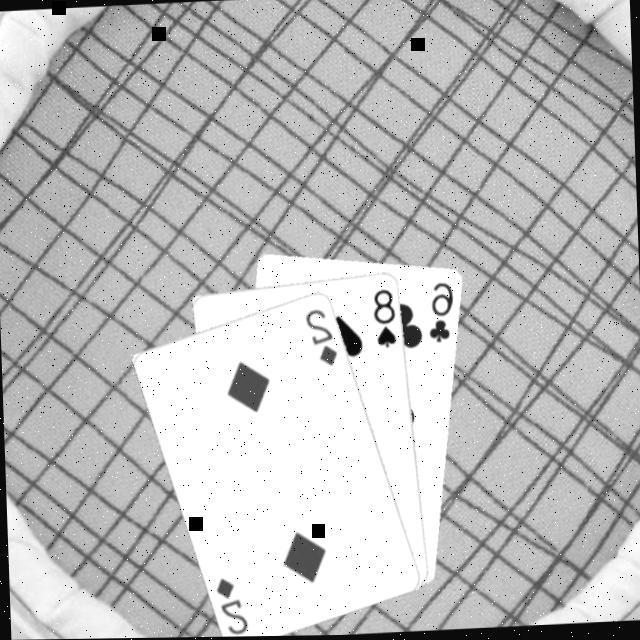2D: (304, 304, 342, 369), (215, 572, 253, 637)
6C: (426, 278, 460, 345)
8S: (372, 284, 402, 351)
